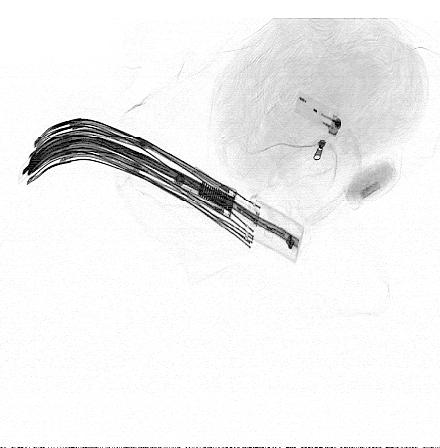Lighter: (294, 90, 342, 140)
